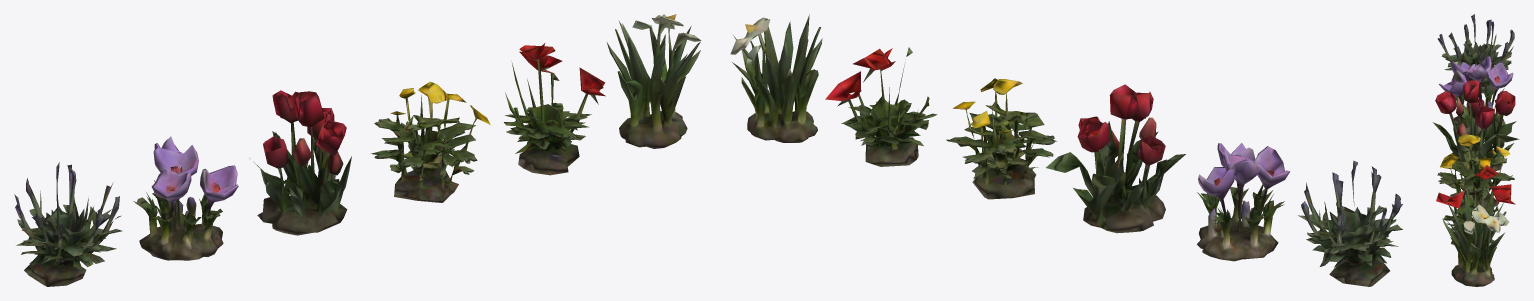
Rendered from flowers.glb.
3 renders of one model, left to right at view 1: azimuth 30°, elevation 25°; view 2: azimuth 150°, elevation 25°; view 3: azimuth 270°, elevation 25°, orthographic. The views are drawn at different scales.
Visible parts, largest first — view 1: tulip, crocus, narcissus, daisy, lavender, poppy; view 2: tulip, narcissus, crocus, daisy, lavender, poppy; view 3: tulip, narcissus, daisy, crocus, lavender, poppy.
Part boxes in pixels (box(x1,y1,x2,y2)): tulip: box(249, 90, 351, 235); crocus: box(133, 136, 238, 260); narcissus: box(607, 14, 701, 148); daisy: box(371, 81, 490, 202); lavender: box(14, 162, 122, 286); poppy: box(504, 43, 605, 175); tulip: box(1046, 84, 1185, 233); narcissus: box(730, 14, 822, 142); crocus: box(1197, 143, 1290, 261); daisy: box(946, 78, 1056, 199); lavender: box(1298, 160, 1402, 286); poppy: box(825, 47, 937, 166); tulip: box(1432, 80, 1519, 171); narcissus: box(1442, 195, 1509, 286); daisy: box(1437, 134, 1514, 208); crocus: box(1439, 56, 1513, 136); lavender: box(1437, 14, 1514, 93); poppy: box(1436, 165, 1515, 244).
Size of the model in its own units: 1.67 by 0.3027 by 0.2821.
1 material, 1 textured.
